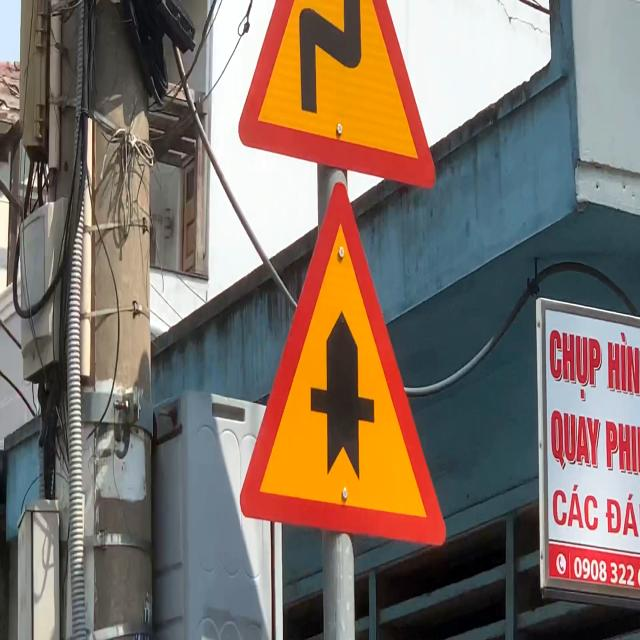W.202b: (234, 0, 439, 202)
W.207a: (233, 177, 448, 556)
